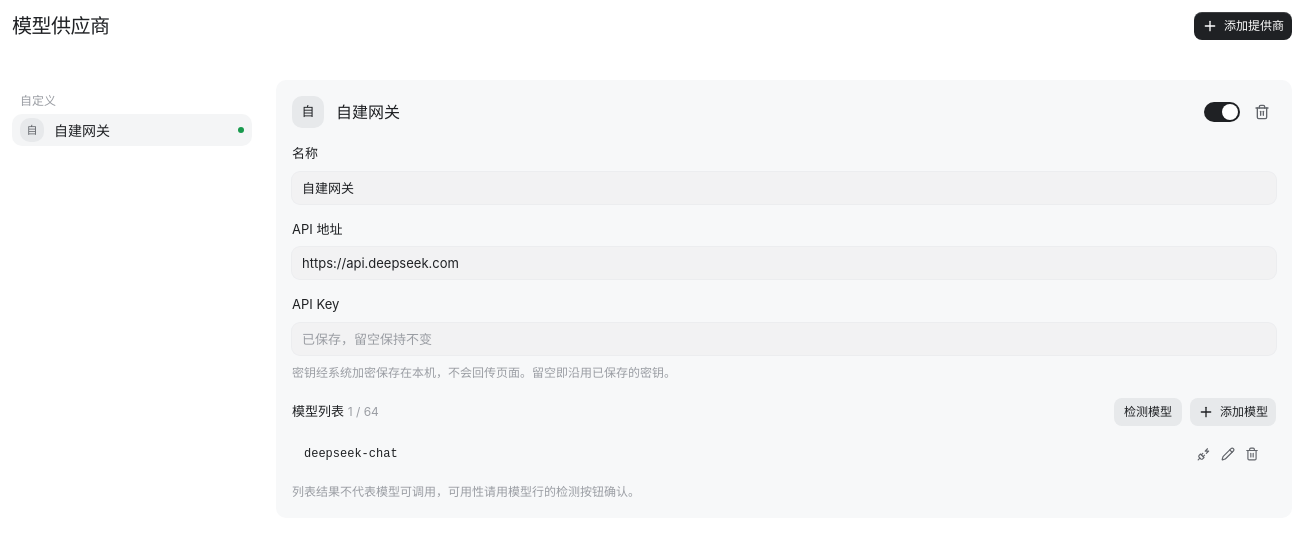
Scenario: rewrites an existing provider to the API base the service actually serves
Click the button "检测模型" at (1148, 412), box [1114, 398, 1182, 426]
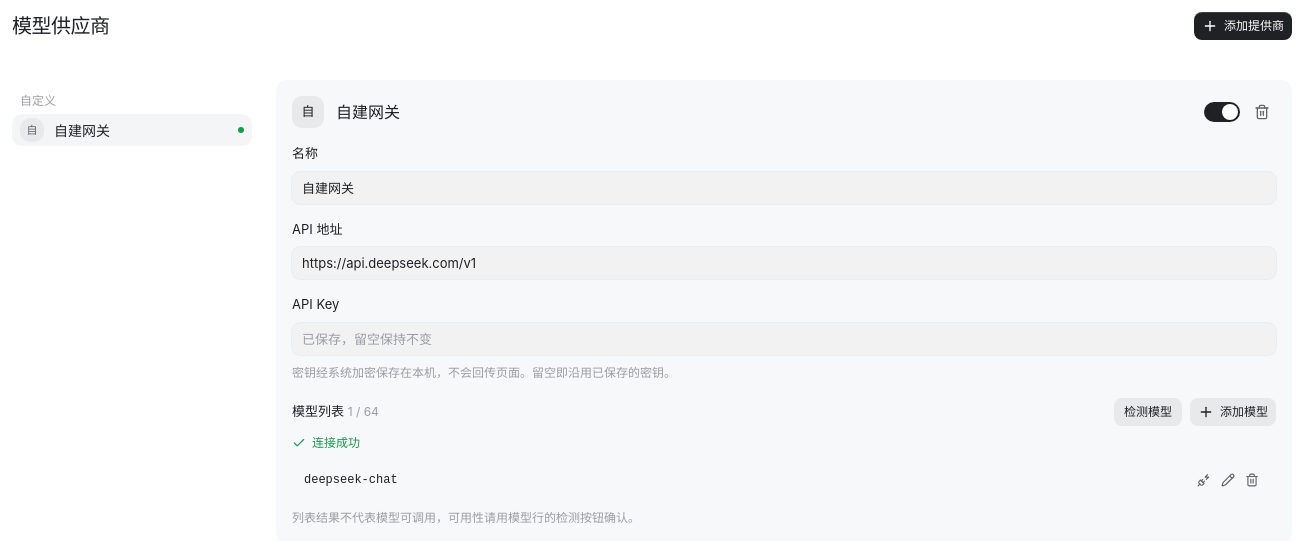
Expected: the field labelled "API 地址" holds "https://api.deepseek.com/v1", [292, 247, 1276, 279]
